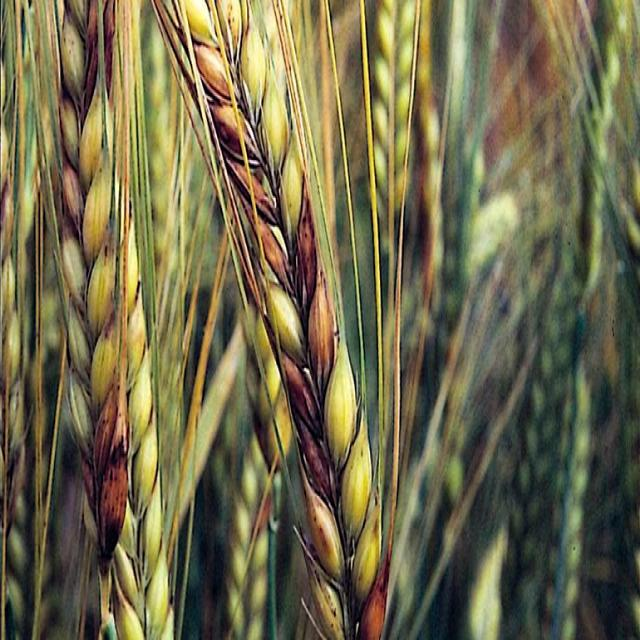Wheathead: (164, 0, 416, 632), (0, 0, 170, 640)
